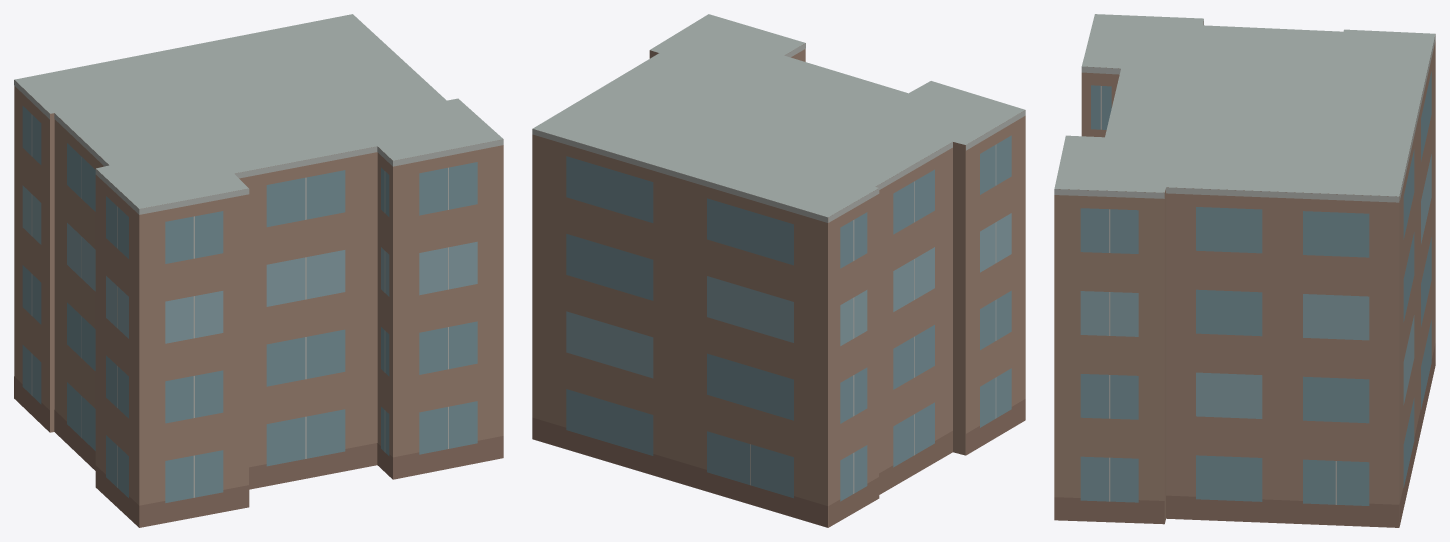
The model's file is survey-upis-32526286.glb.
3 renders of one model, left to right at view 1: azimuth 30°, elevation 25°; view 2: azimuth 150°, elevation 25°; view 3: azimuth 270°, elevation 25°, orthographic. The views are drawn at different scales.
Parts seen in each view (by area): view 1: survey-upis-32526286.tmp; view 2: survey-upis-32526286.tmp; view 3: survey-upis-32526286.tmp.
Part boxes in pixels (x1,y1,x2,y2): survey-upis-32526286.tmp: [14, 14, 503, 527]; survey-upis-32526286.tmp: [532, 14, 1025, 527]; survey-upis-32526286.tmp: [1054, 14, 1435, 527].
Size of the model in its own units: 15.72 by 13.3 by 13.88.
